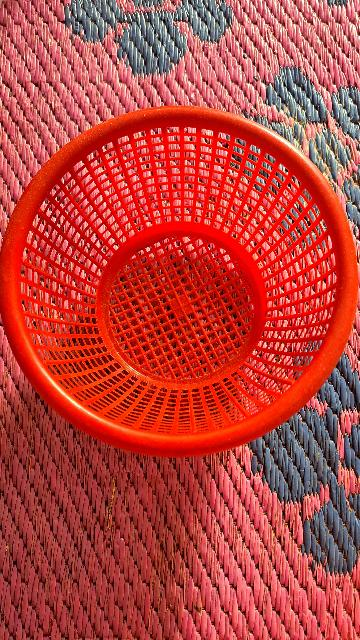hardplastic: (9, 103, 357, 457)
